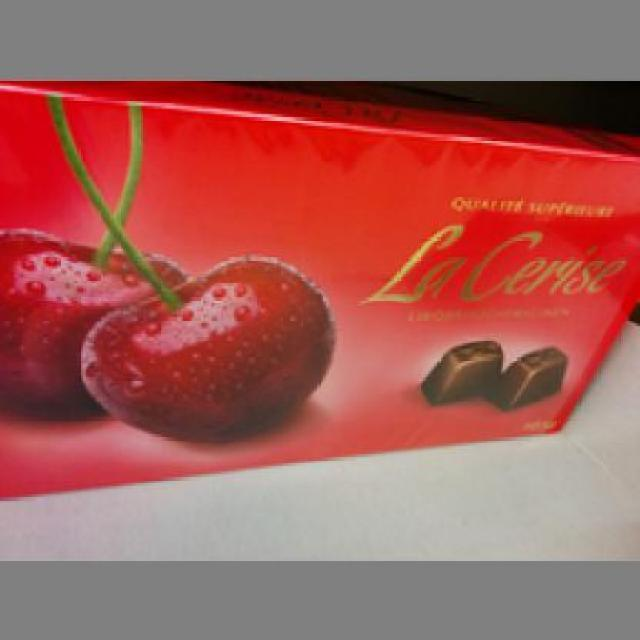Chocolate: (0, 77, 637, 497)
